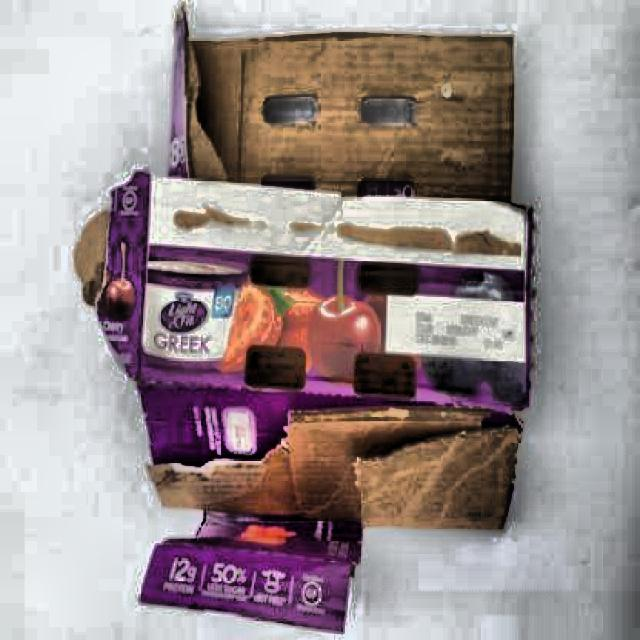Cardbox: (77, 0, 564, 640)
